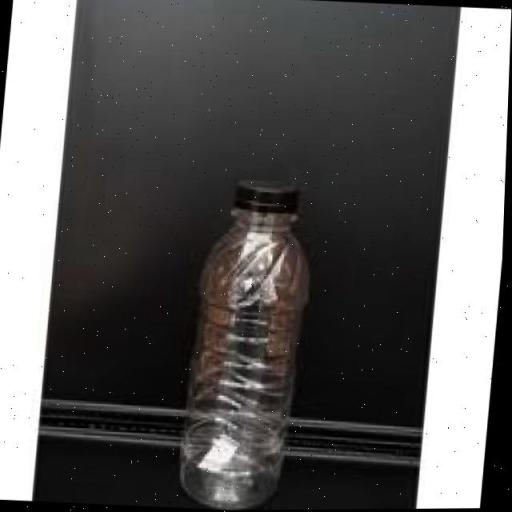plastic: (174, 172, 328, 510)
